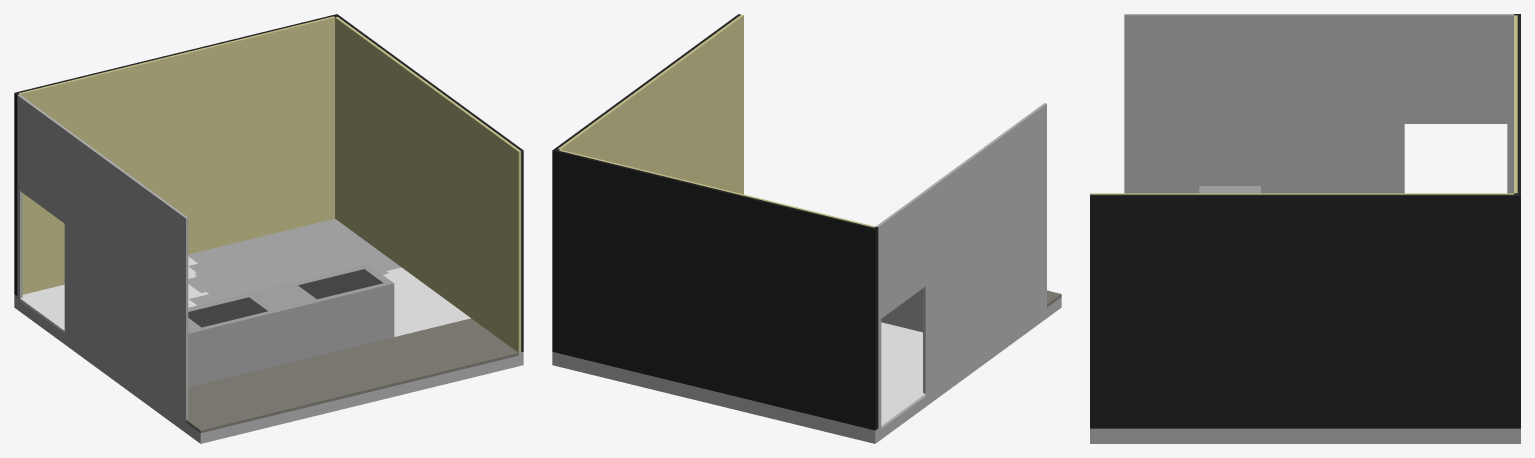
File: 2x2 first (des)-2.obj
3 views of the same model, side by side, from view 1: azimuth 30°, elevation 25°; view 2: azimuth 150°, elevation 25°; view 3: azimuth 270°, elevation 25° (orthographic). The views are drawn at different scales.
Visible parts, largest first — view 1: 2x2 first (des)-2; view 2: 2x2 first (des)-2; view 3: 2x2 first (des)-2.
Boxes of the visible parts, <box> form: 2x2 first (des)-2: <box>14,14,523,443</box>; 2x2 first (des)-2: <box>552,14,1061,443</box>; 2x2 first (des)-2: <box>1090,14,1520,443</box>.
Bounding box in the file's own units: 126 × 80 × 126.
1 material, 1 textured.
